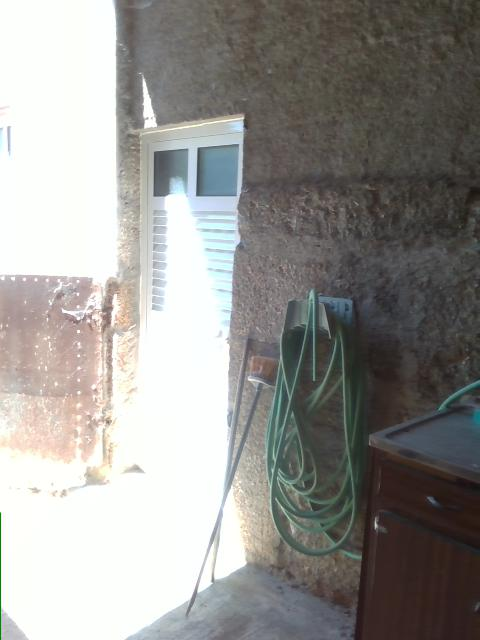door: (126, 112, 245, 529)
